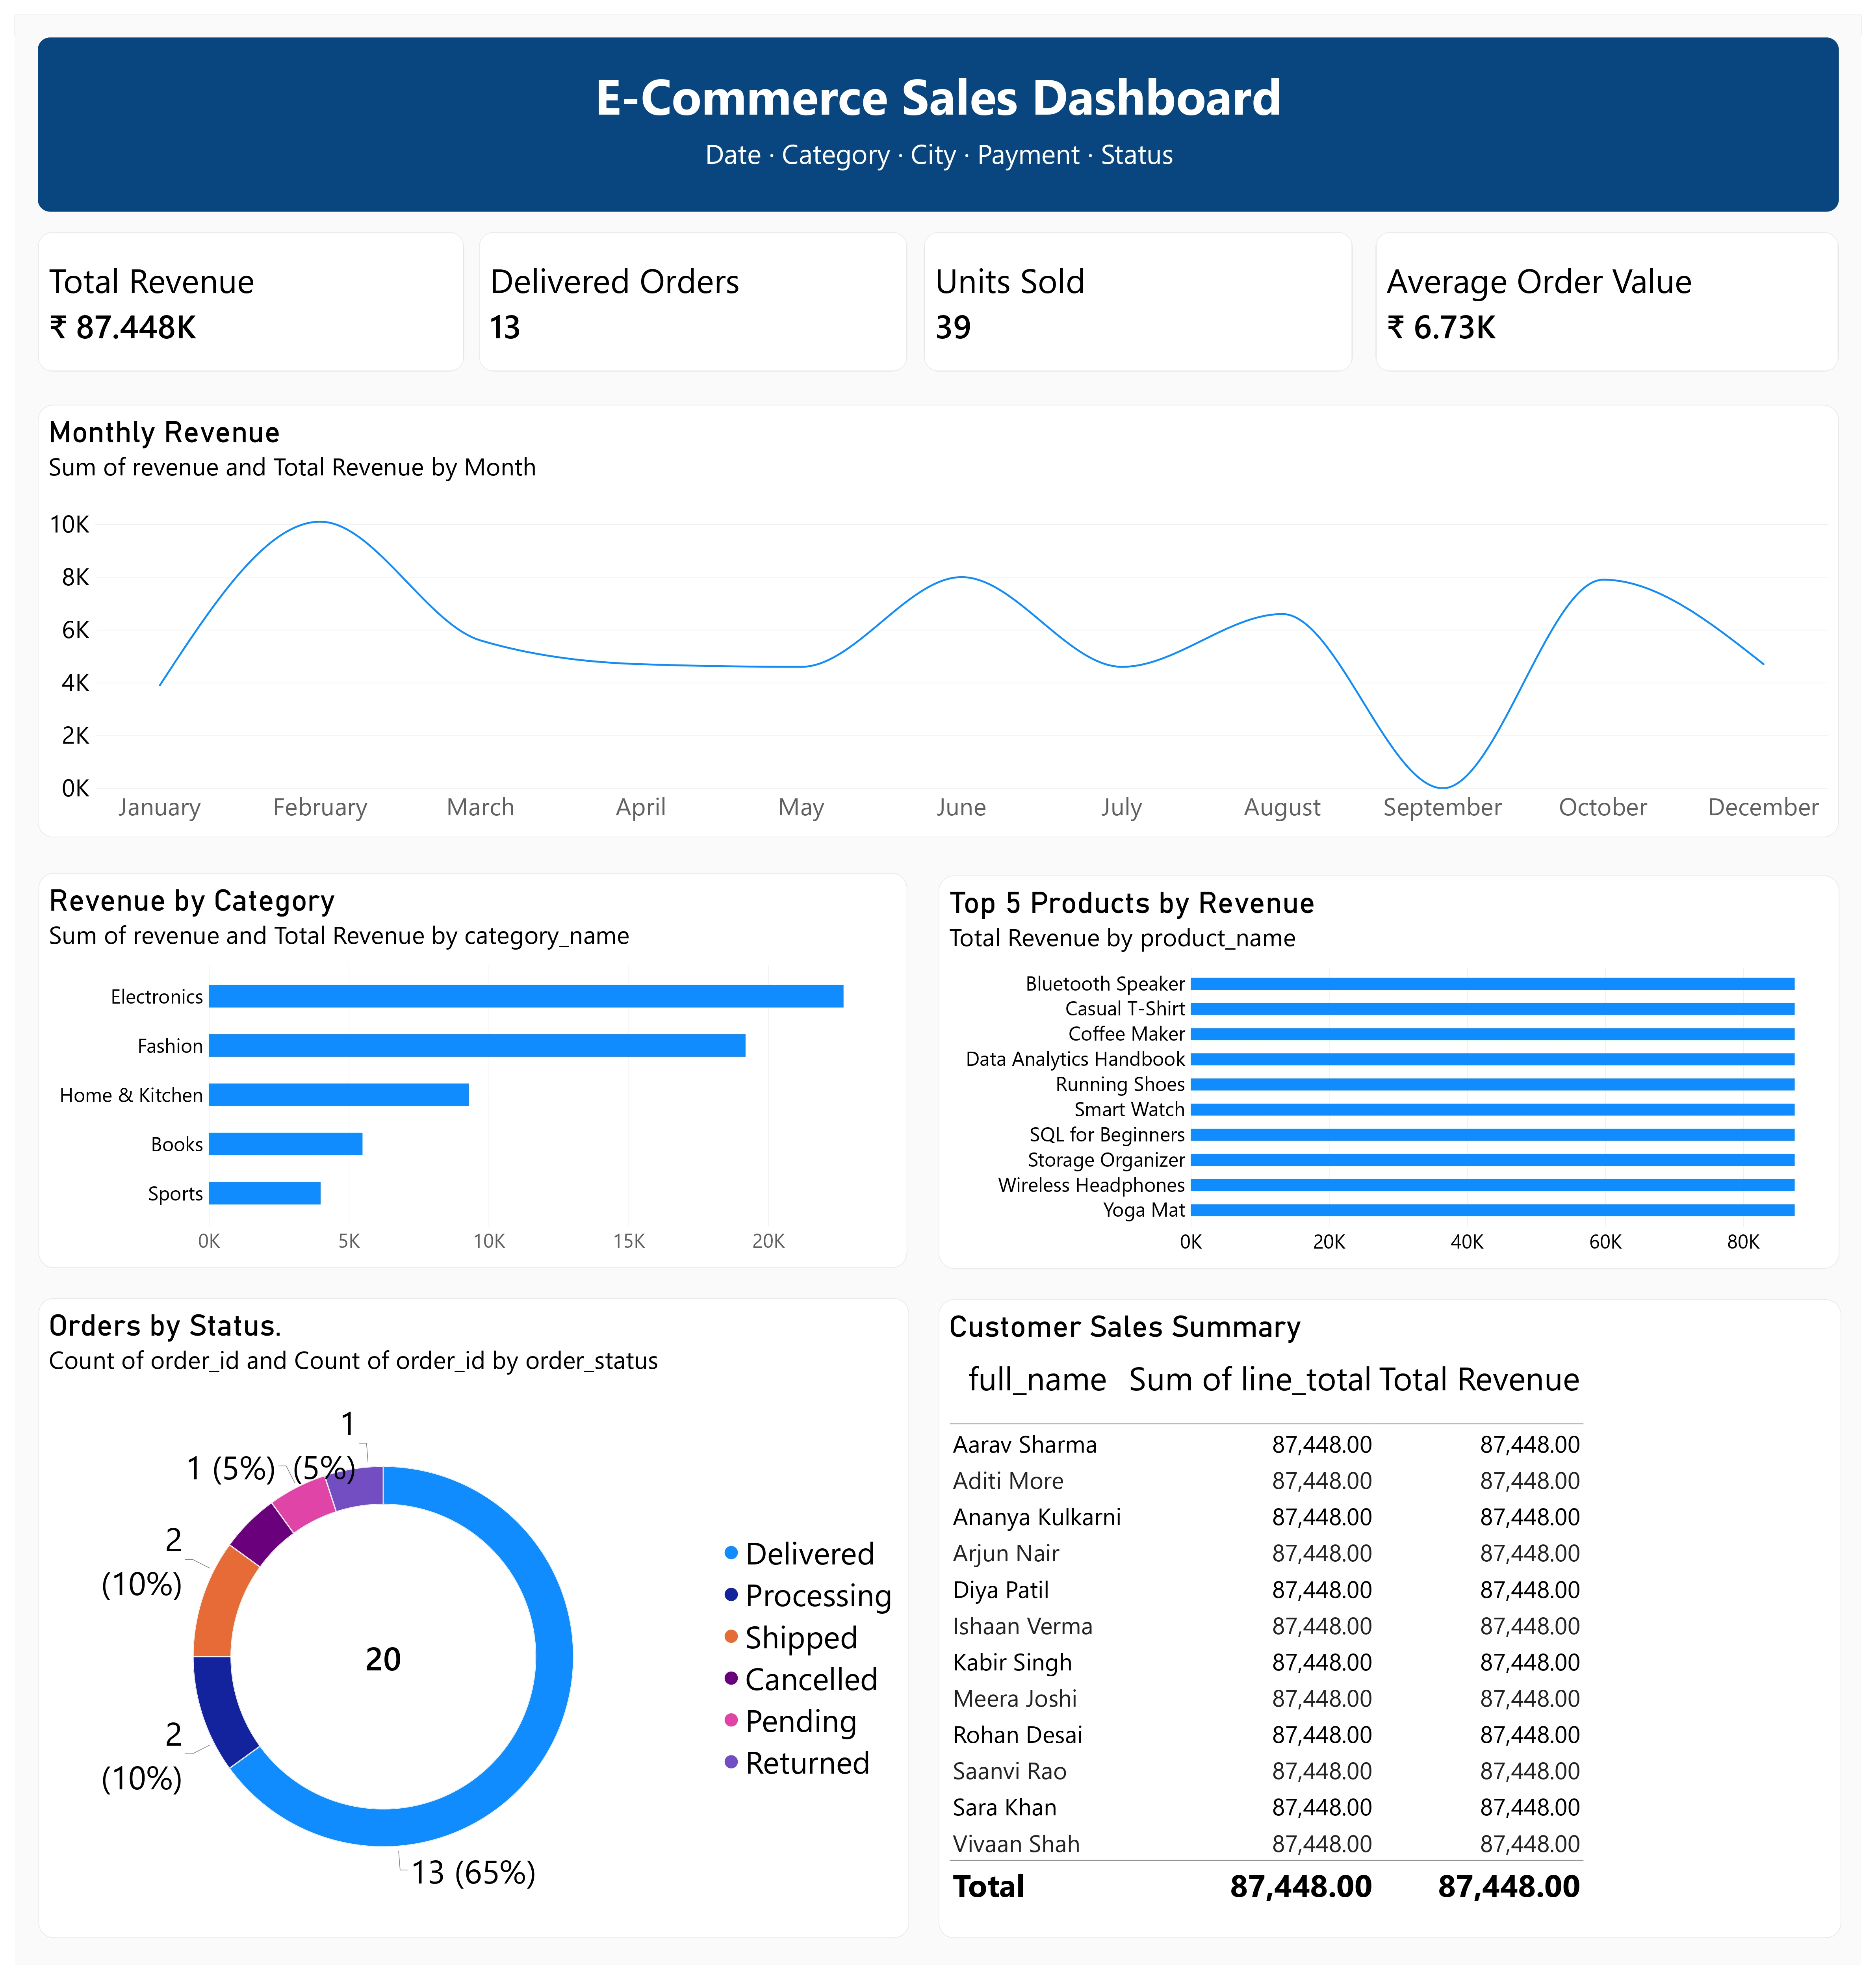

This screenshot's page, from the dashboard's own definition file:
{"tool":"powerbi","page":{"name":"Page 1","canvas":[3000,3170],"ordinal":0},"visuals":[{"type":"cardVisual","fields":{"Data":["v_OrderDetails.Total Revenue"]},"box":[36.7,353.5,693.6,226.7],"z":0},{"type":"cardVisual","fields":{"Data":["v_OrderDetails.Delivered Orders"]},"box":[753.6,353.5,696.9,226.7],"z":1000},{"type":"cardVisual","fields":{"Data":["v_OrderDetails.Units Sold"]},"box":[1477.2,353.5,696.9,226.7],"z":2000},{"type":"cardVisual","fields":{"Data":["v_OrderDetails.Average Order Value"]},"box":[2210.8,353.5,753.6,226.7],"z":3000},{"type":"lineChart","title":"Monthly Revenue","fields":{"Category":["v_MonthlySales.sales_month.Variation.Date Hierarchy.Year","v_MonthlySales.sales_month.Variation.Date Hierarchy.Quarter","v_MonthlySales.sales_month.Variation.Date Hierarchy.Month","v_MonthlySales.sales_month.Variation.Date Hierarchy.Day"],"Y":["Sum(v_MonthlySales.revenue)"]},"box":[36.7,633.5,2927.7,703.6],"z":4000},{"type":"clusteredBarChart","title":" Revenue by Category","fields":{"Category":["v_CategorySales.category_name"],"Y":["Sum(v_CategorySales.revenue)"]},"box":[37.5,1395.3,1412.4,641.4],"z":5000},{"type":"clusteredBarChart","title":"Top 5 Products by Revenue","fields":{"Category":["v_TopProducts.product_name"],"Y":["v_OrderDetails.Total Revenue"]},"box":[1501.3,1399.5,1463.8,638.1],"z":6000},{"type":"donutChart","title":" Orders by Status.","fields":{"Category":["v_OrderDetails.order_status"],"Y":["Count(v_OrderDetails.order_id)"]},"box":[37.5,2085.8,1415.6,1040.2],"z":7000},{"type":"tableEx","title":"Customer Sales Summary","fields":{"Values":["v_CustomerSales.full_name","Sum(v_OrderDetails.line_total)","v_OrderDetails.Total Revenue"]},"box":[1501.3,2087.8,1466.2,1038],"z":8000},{"type":"shape","box":[36.7,36.7,2927.7,283.4],"z":10001},{"type":"shape","box":[1087,180.1,830.3,86.7],"z":10002}]}

Visuals, with their boxes in screenshot pixels (x1, y1, x2, y2), scaled from the page's 3000x3170 canvas onto the 1876x1980 screenshot:
cardVisual - v_OrderDetails.Total Revenue: [23,221,456,362]
cardVisual - v_OrderDetails.Delivered Orders: [471,221,907,362]
cardVisual - v_OrderDetails.Units Sold: [924,221,1360,362]
cardVisual - v_OrderDetails.Average Order Value: [1382,221,1854,362]
"Monthly Revenue" lineChart: [23,396,1854,835]
" Revenue by Category" clusteredBarChart: [24,872,907,1272]
"Top 5 Products by Revenue" clusteredBarChart: [939,874,1854,1273]
" Orders by Status." donutChart: [24,1303,909,1952]
"Customer Sales Summary" tableEx: [939,1304,1856,1952]
shape: [23,23,1854,200]
shape: [680,113,1199,167]
